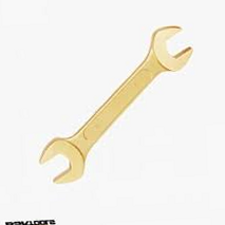Wrench: (25, 22, 197, 193)
